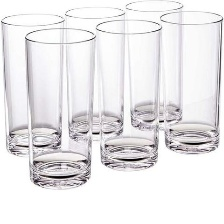glass: (25, 21, 98, 193), (99, 10, 165, 175), (0, 9, 66, 157), (160, 9, 223, 157), (62, 5, 128, 146), (121, 0, 188, 131)
